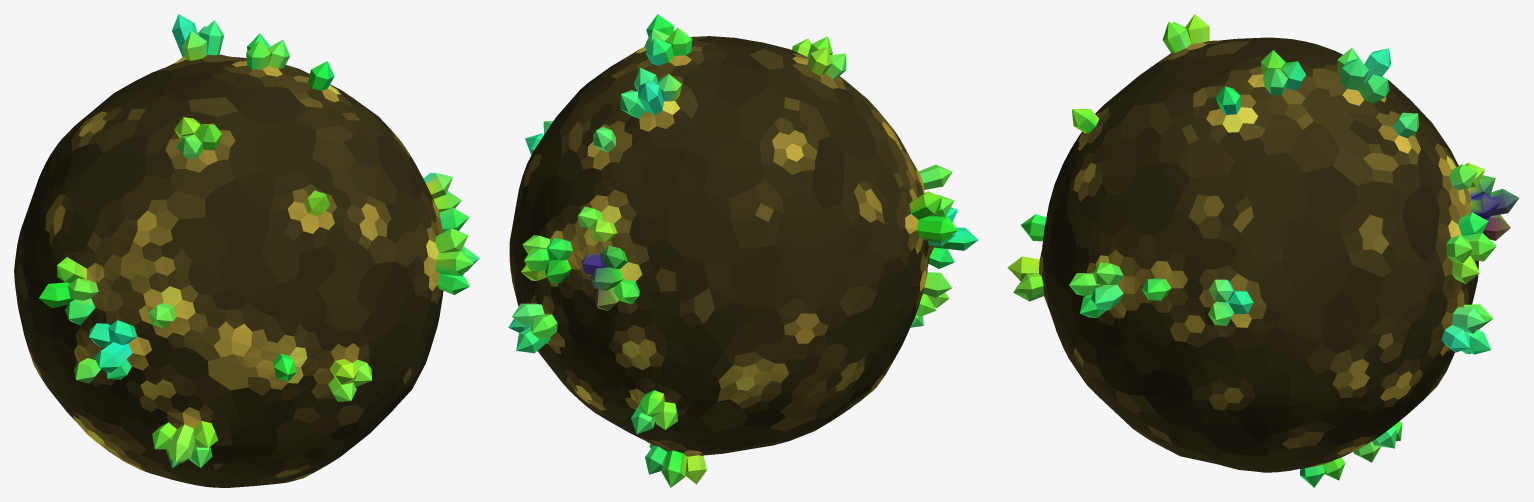
Rendered from Crystal_planet_16.fbx.
The picture shows the model from 3 angles, left to right: view 1: azimuth 30°, elevation 25°; view 2: azimuth 150°, elevation 25°; view 3: azimuth 270°, elevation 25°; orthographic projection. The views are drawn at different scales.
Visible parts, largest first — view 1: file6; view 2: file6; view 3: file6.
Boxes of the visible parts, left/top/right/bottom form: file6: left=14, top=14, right=479, bottom=487; file6: left=508, top=14, right=978, bottom=487; file6: left=1007, top=14, right=1519, bottom=487.
Bounding box in the file's own units: 2.3 × 2.21 × 2.35.
